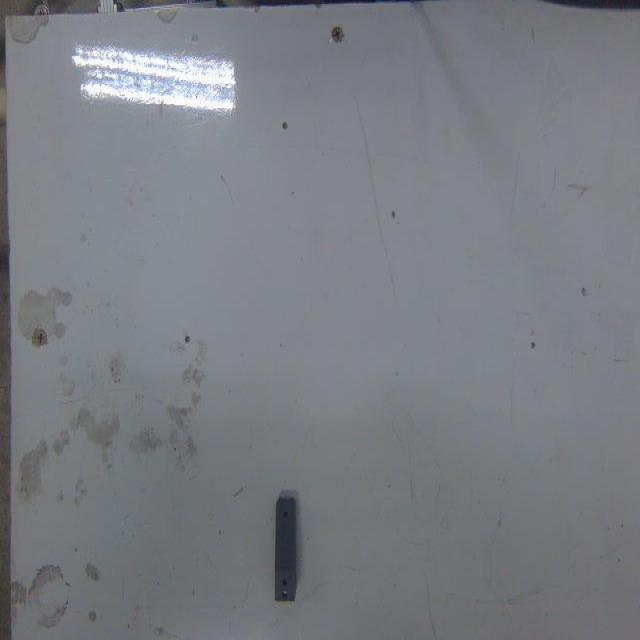grey: (275, 495, 298, 604)
head: (282, 507, 290, 521)
